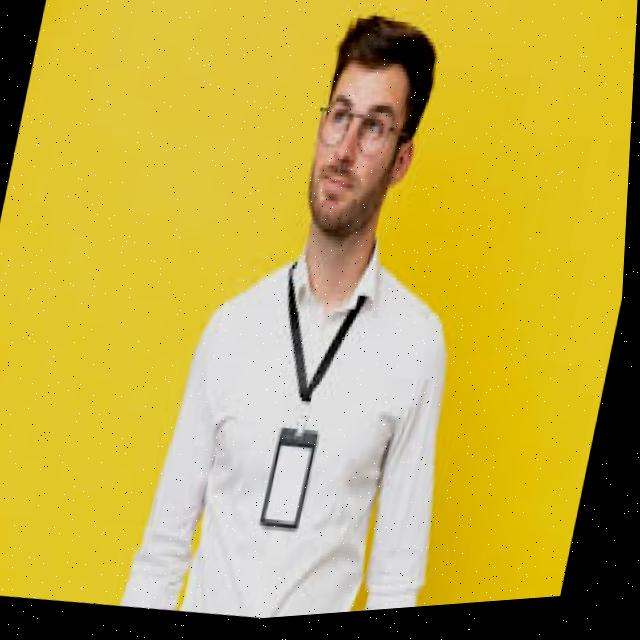id_card: (239, 266, 383, 551)
